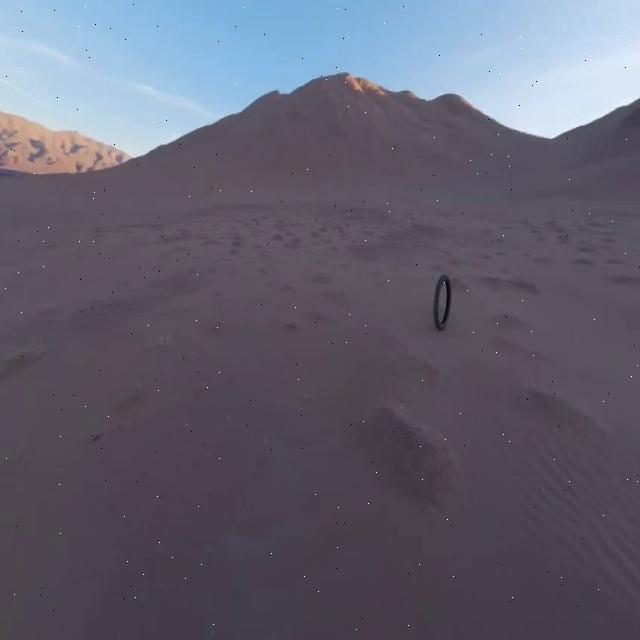Tire: (433, 276, 451, 329)
